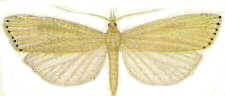Crambidae: (2, 8, 225, 95)
